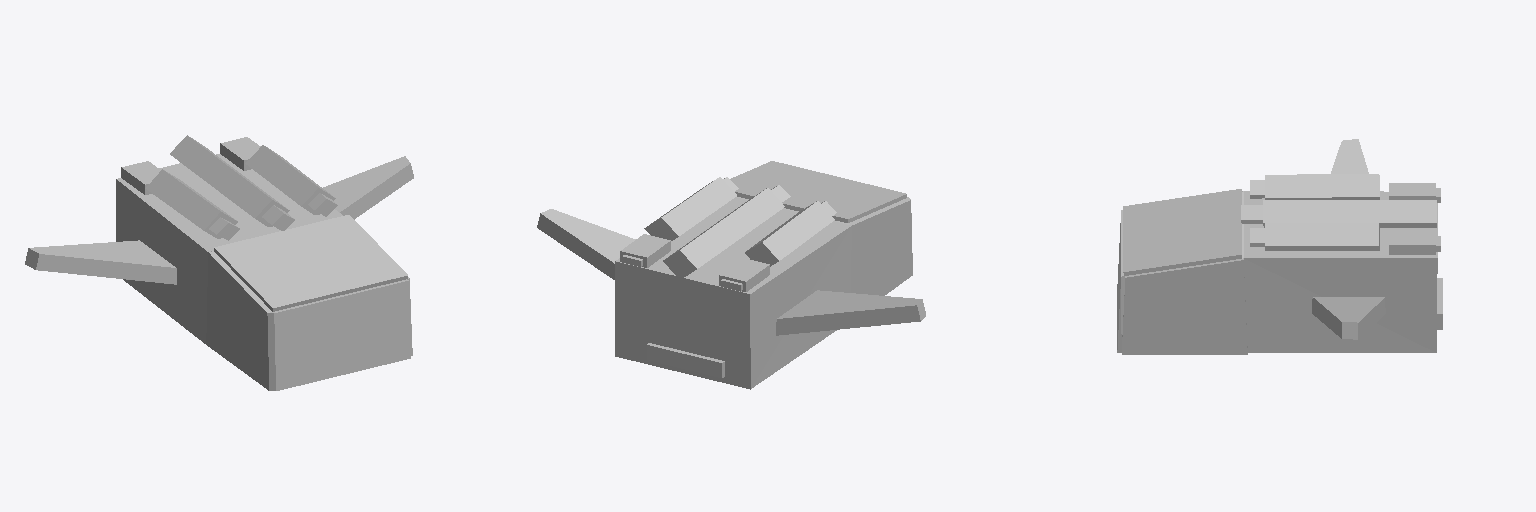
File: Complete Ally Jupiter OBJ.obj
The picture shows the model from 3 angles: view 1: azimuth 30°, elevation 25°; view 2: azimuth 150°, elevation 25°; view 3: azimuth 270°, elevation 25°; orthographic projection.
Visible parts, largest first — view 1: pasted__pCube1 group, pasted__pCube3 group2, pasted__pasted__pCylinder3 pasted__group1 group3, pasted__pasted__pasted__pCylinder3 pasted__pasted__group1 pasted, pasted__pCube2; view 2: pasted__pCube1 group, pasted__pCube3 group2, pasted__pasted__pCylinder3 pasted__group1 group3, pasted__pasted__pasted__pCylinder3 pasted__pasted__group1 pasted, pasted__pCube2, pCube1; view 3: pasted__pCube1 group, pasted__pasted__pCylinder3 pasted__group1 group3, pasted__pasted__pasted__pCylinder3 pasted__pasted__group1 pasted, pasted__pCube3 group2, pasted__pCube2.
Boxes of the visible parts, <box> form: pasted__pCube1 group: <box>116,154,412,390</box>; pasted__pCube3 group2: <box>25,156,413,284</box>; pasted__pasted__pCylinder3 pasted__group1 group3: <box>145,145,337,240</box>; pasted__pasted__pasted__pCylinder3 pasted__pasted__group1 pasted: <box>170,135,294,230</box>; pasted__pCube2: <box>121,137,260,194</box>; pasted__pCube1 group: <box>615,161,912,389</box>; pasted__pCube3 group2: <box>537,209,925,335</box>; pasted__pasted__pCylinder3 pasted__group1 group3: <box>644,177,836,266</box>; pasted__pasted__pasted__pCylinder3 pasted__pasted__group1 pasted: <box>663,185,790,277</box>; pasted__pCube2: <box>620,234,769,291</box>; pCube1: <box>647,343,724,377</box>; pasted__pCube1 group: <box>1117,189,1437,354</box>; pasted__pasted__pCylinder3 pasted__group1 group3: <box>1250,174,1379,250</box>; pasted__pasted__pasted__pCylinder3 pasted__pasted__group1 pasted: <box>1241,200,1436,227</box>; pasted__pCube3 group2: <box>1312,139,1385,339</box>; pasted__pCube2: <box>1389,183,1440,254</box>.
Bounding box in the file's own units: 12.78 × 3.88 × 9.37.